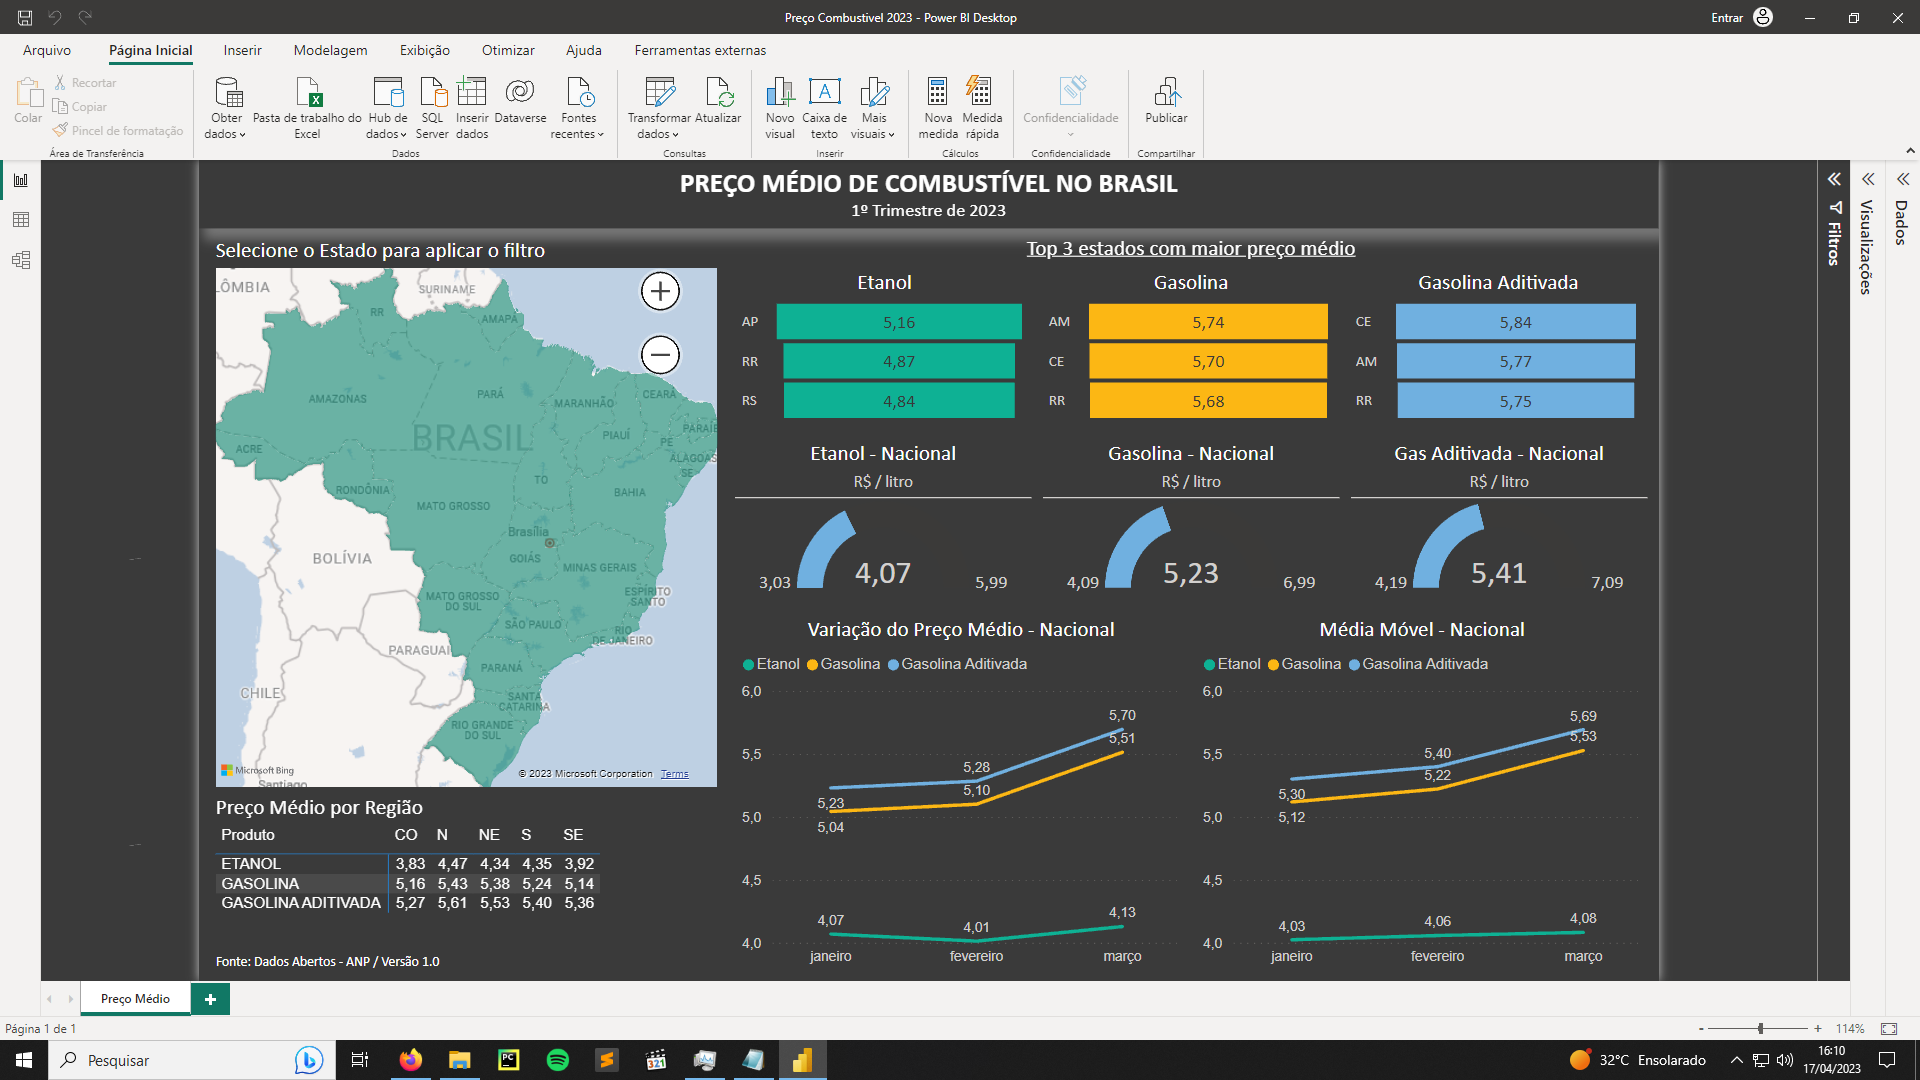

The page's visual inventory and layout, read from the dashboard file:
{"tool":"powerbi","page":{"name":"Preço Médio","canvas":[1280,720],"ordinal":0},"visuals":[{"type":"lineChart","fields":{"Category":["preco_tratado.Data_Coleta.Variation.Hierarquia de datas.Mês","preco_tratado.Data_Coleta.Variation.Hierarquia de datas.Dia"],"Y":["Medidas.MediaNacEtanol","Medidas.MediaNacGasComum","Medidas.MediaNacGasAdit"]},"box":[470.9,395,395,320],"z":0},{"type":"lineChart","fields":{"Y":["Medidas.Média móvel de MediaNacEtanol","Medidas.Média móvel de MediaNacGasComum","Medidas.Média móvel de MediaNacGasAdit"],"Category":["preco_tratado.Data_Coleta.Variation.Hierarquia de datas.Mês","preco_tratado.Data_Coleta.Variation.Hierarquia de datas.Dia"]},"box":[874.9,395,395.1,320],"z":1000},{"type":"filledMap","title":"Selecione o Estado para aplicar o filtro","fields":{"Category":["preco_tratado.Estado"]},"box":[10,65,450,490],"z":2000},{"type":"pivotTable","fields":{"Rows":["preco_tratado.Produto"],"Columns":["preco_tratado.Regiao"],"Values":["Medidas.MediaValorVenda"]},"box":[10,554.7,450,123.7],"z":3000},{"type":"funnel","title":"Gasolina ","fields":{"Category":["TOPMediaGas.Estado"],"Y":["Avg(TOPMediaGas.GAS)"]},"box":[740.2,95,260,140.1],"z":4000},{"type":"textbox","box":[0,0,1280,60],"z":5000},{"type":"funnel","title":"Gasolina Aditivada","fields":{"Category":["TOPMediaGasAdit.Estado"],"Y":["Avg(TOPMediaGasAdit.GAS_ADIT)"]},"box":[1009.6,95,260.7,140.1],"z":6000},{"type":"funnel","title":"Etanol","fields":{"Category":["TOPMediaEtanol.Estado"],"Y":["Avg(TOPMediaEtanol.ETANOL)"]},"box":[470.8,95,260.7,140.1],"z":7000},{"type":"textbox","title":"Top 3 estados com maior preço médio","box":[470.2,65,800.1,30],"z":8000},{"type":"textbox","box":[10,690,225.5,25.9],"z":9000},{"type":"textbox","box":[470,245.1,260,52],"z":10000},{"type":"gauge","fields":{"Y":["Medidas.MediaNacEtanol"],"MinValue":["Medidas.MinMediaNacEtanol"],"MaxValue":["Medidas.MaxMediaNacEtanol"]},"box":[470,297.6,259.7,87.5],"z":11000},{"type":"textbox","box":[740,245,260,52],"z":12000},{"type":"gauge","fields":{"Y":["Medidas.MediaNacGasComum"],"MinValue":["Medidas.MinMediaNacGas"],"MaxValue":["Medidas.MaxMediaNacGas"]},"box":[740,297,259.7,87.5],"z":13000},{"type":"textbox","box":[1010.7,245,260,52],"z":14000},{"type":"gauge","fields":{"Y":["Medidas.MediaNacGasAdit"],"MinValue":["Medidas.MinMediaNacGasAdt"],"MaxValue":["Medidas.MaxMediaNacGasAdt"]},"box":[1010.7,297,259.7,87.5],"z":15000}]}

Visuals, with their boxes on the page's 1280x720 design canvas (x1, y1, x2, y2). These are canvas units, not pixel positions in the 1920x1080 screenshot, which may show the page scaled, cropped or inside an application window:
lineChart - preco_tratado.Data_Coleta.Variation.Hierarquia de datas.Mês x preco_tratado.Data_Coleta.Variation.Hierarquia de datas.Dia: left=471, top=395, right=866, bottom=715
lineChart - Medidas.Média móvel de MediaNacEtanol x Medidas.Média móvel de MediaNacGasComum: left=875, top=395, right=1270, bottom=715
"Selecione o Estado para aplicar o filtro" filledMap: left=10, top=65, right=460, bottom=555
pivotTable - preco_tratado.Produto x preco_tratado.Regiao: left=10, top=555, right=460, bottom=678
"Gasolina " funnel: left=740, top=95, right=1000, bottom=235
textbox: left=0, top=0, right=1280, bottom=60
"Gasolina Aditivada" funnel: left=1010, top=95, right=1270, bottom=235
"Etanol" funnel: left=471, top=95, right=732, bottom=235
"Top 3 estados com maior preço médio" textbox: left=470, top=65, right=1270, bottom=95
textbox: left=10, top=690, right=236, bottom=716
textbox: left=470, top=245, right=730, bottom=297
gauge - Medidas.MediaNacEtanol x Medidas.MinMediaNacEtanol: left=470, top=298, right=730, bottom=385
textbox: left=740, top=245, right=1000, bottom=297
gauge - Medidas.MediaNacGasComum x Medidas.MinMediaNacGas: left=740, top=297, right=1000, bottom=384
textbox: left=1011, top=245, right=1271, bottom=297
gauge - Medidas.MediaNacGasAdit x Medidas.MinMediaNacGasAdt: left=1011, top=297, right=1270, bottom=384
